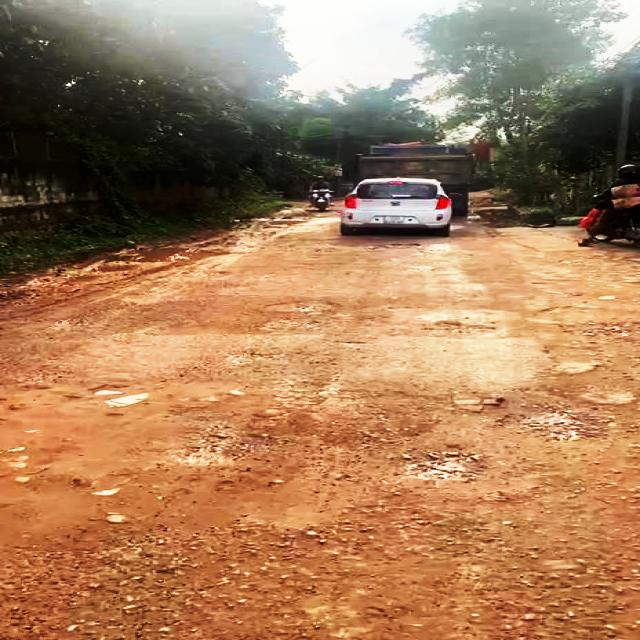pothole: (506, 403, 615, 445), (174, 420, 265, 470), (398, 447, 492, 486), (262, 300, 344, 316), (421, 319, 496, 336)
